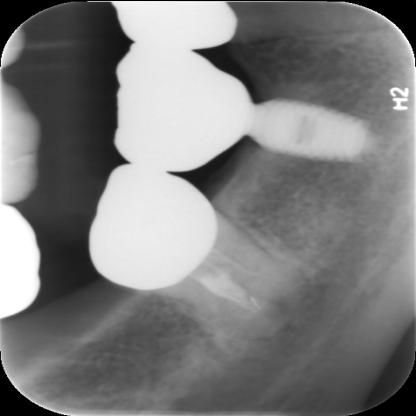Bicon: (250, 81, 386, 171)
